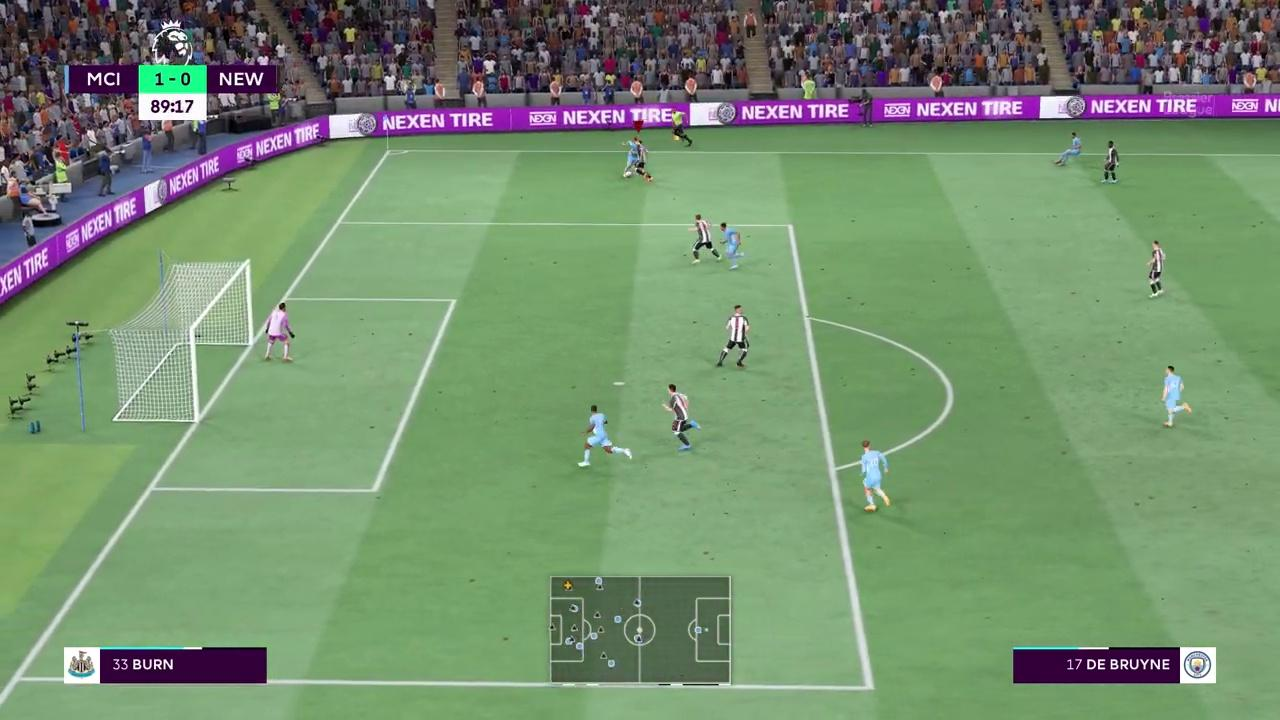scoreboard: (65, 65, 281, 94)
timestamp: (135, 93, 207, 120)
